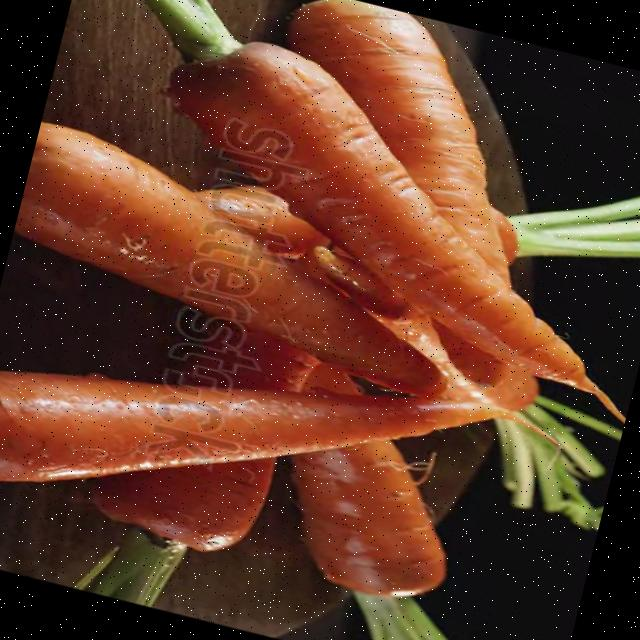carrot: (167, 42, 619, 415), (14, 123, 441, 394), (286, 0, 507, 278), (0, 370, 513, 482), (88, 319, 321, 551), (312, 247, 537, 411), (290, 357, 443, 595), (191, 185, 522, 271)
